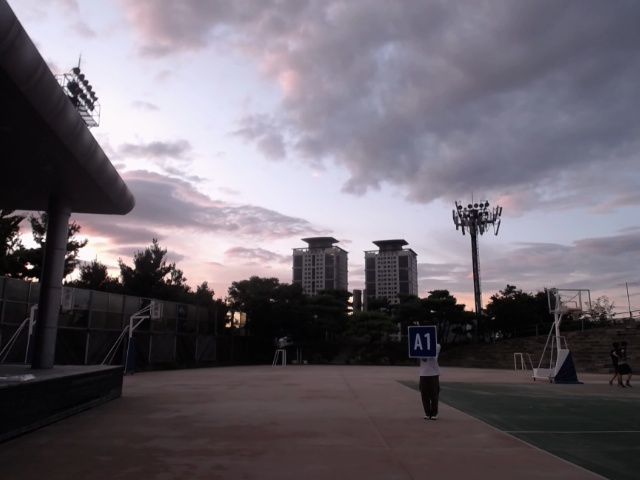delivery_a1: (408, 326, 436, 357)
